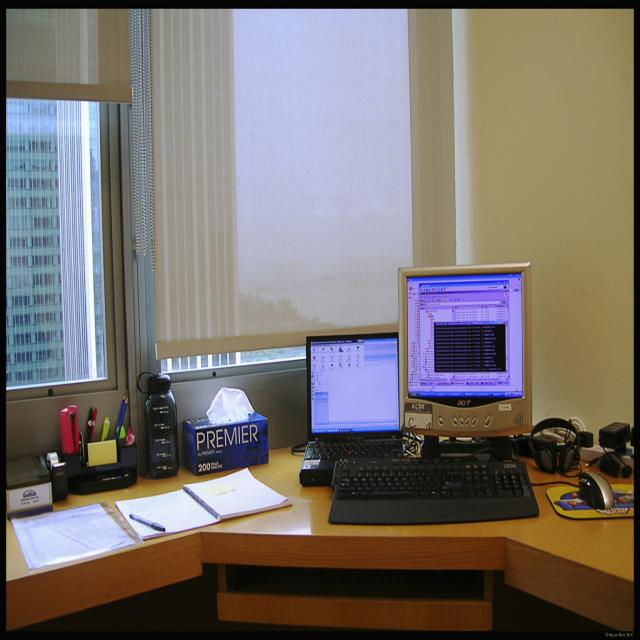desk: (6, 433, 633, 631)
keyboard: (329, 452, 539, 525)
laptop: (298, 328, 424, 487)
mouse: (578, 469, 615, 511)
tv: (397, 262, 532, 437)
